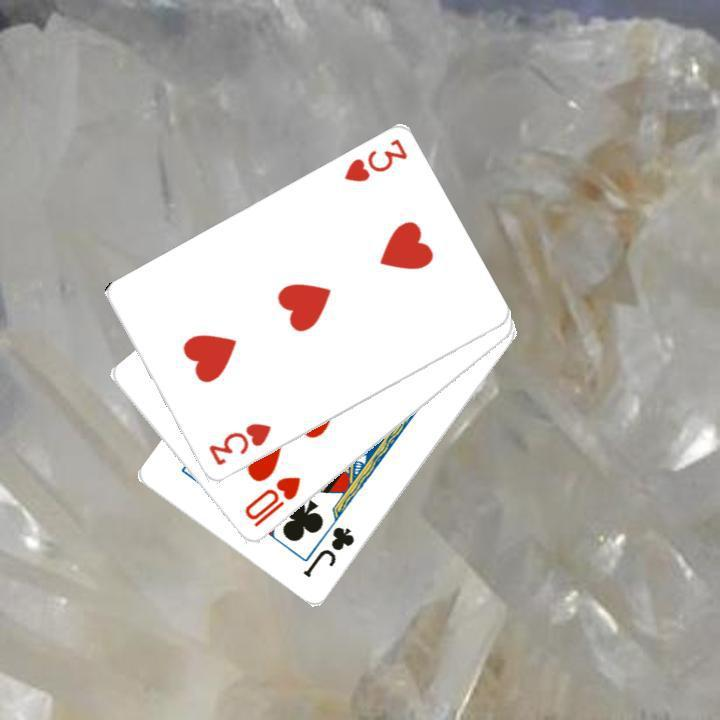10: (240, 472, 303, 530)
3: (339, 135, 410, 185), (203, 419, 273, 468)
J: (298, 522, 357, 580)
